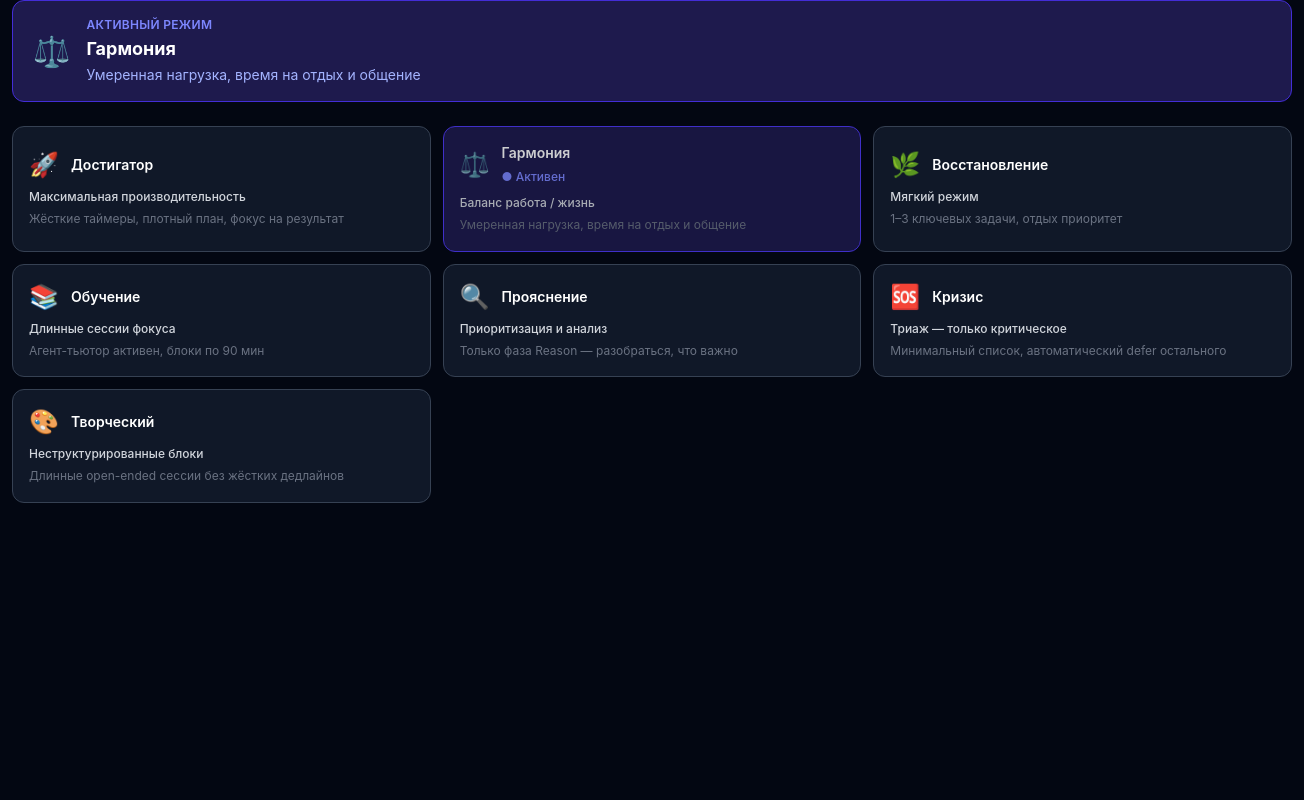
Test: ModeSwitcher › cancel button closes confirm panel
The image size is (1304, 800).
Click the text "Достигатор" at {"x": 112, "y": 164}, box x1=71 y1=156 x2=153 y2=173
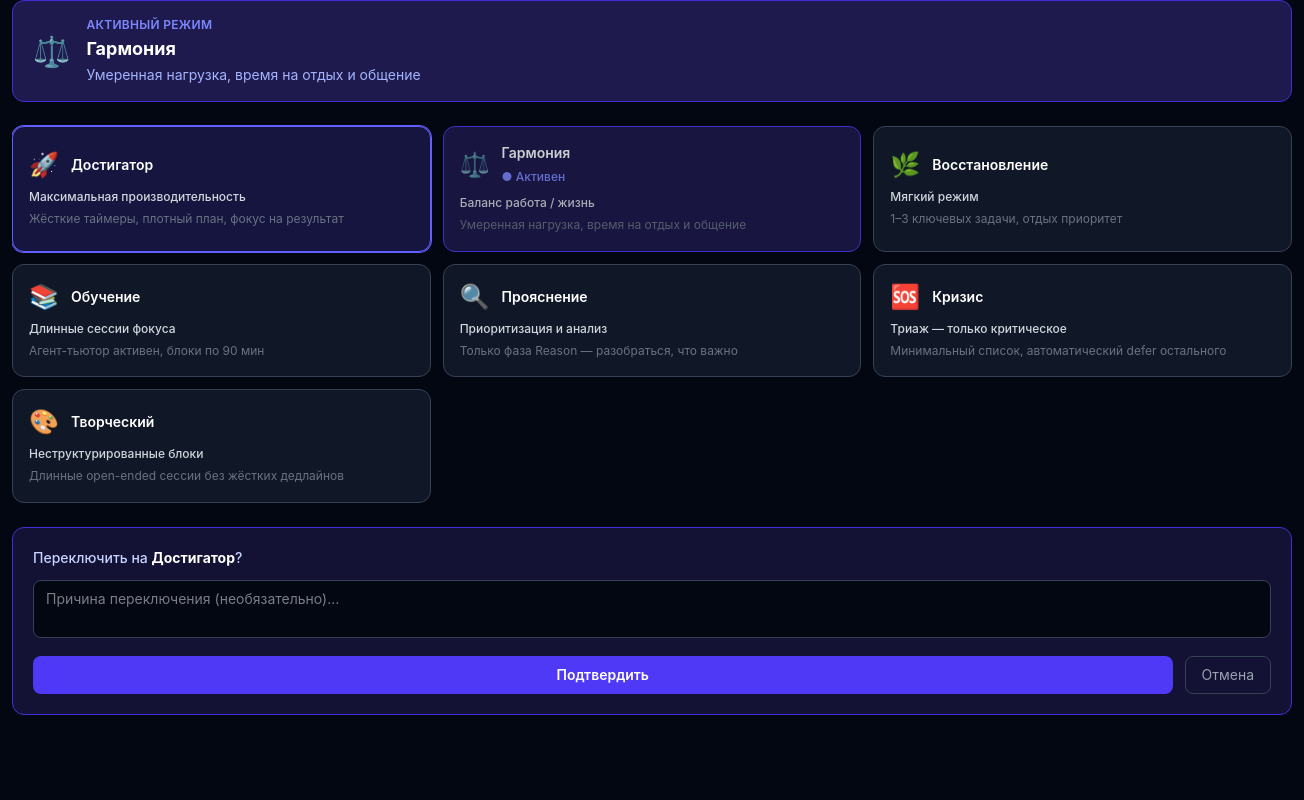
expect the button "Подтвердить" is shown: met, box x1=33 y1=656 x2=1172 y2=694
Click the button "Отмена" at {"x": 1228, "y": 674}, box x1=1184 y1=656 x2=1271 y2=694
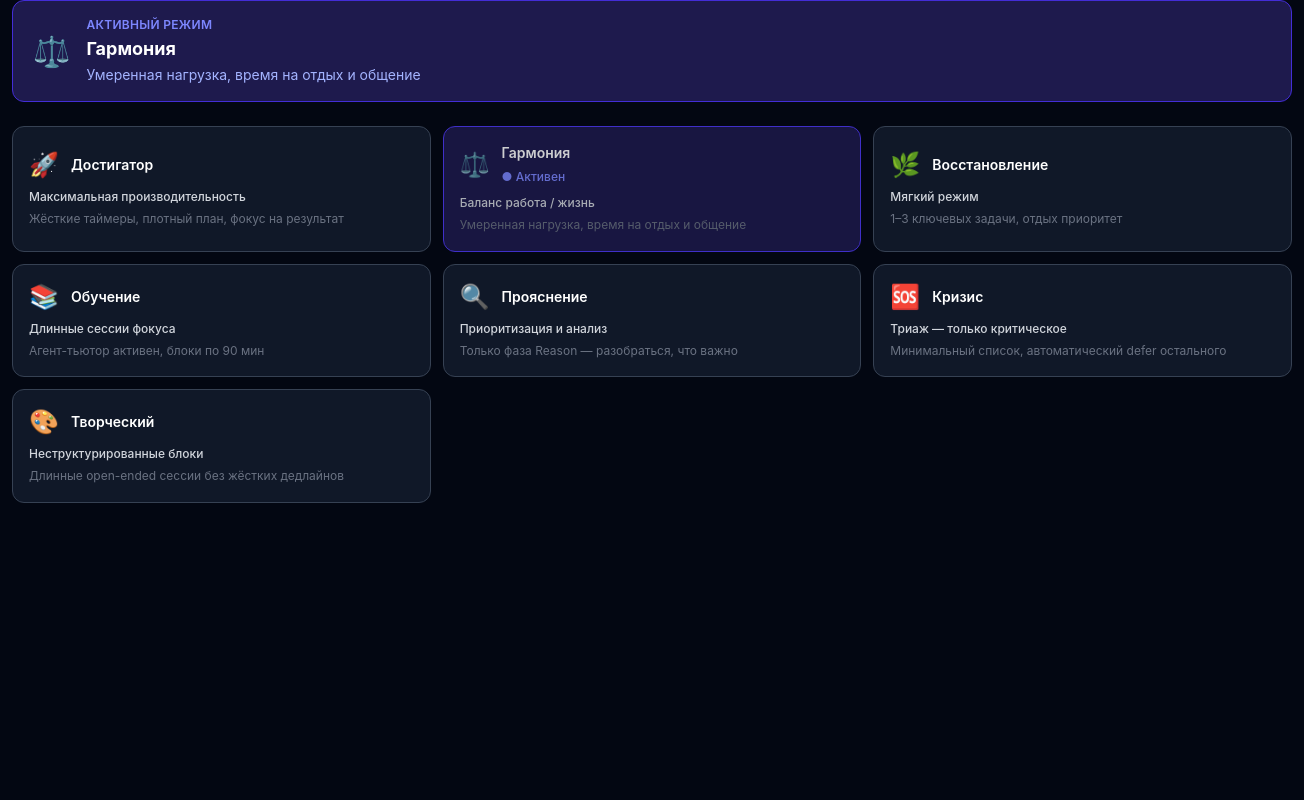
expect the button "Подтвердить" is gone: met
